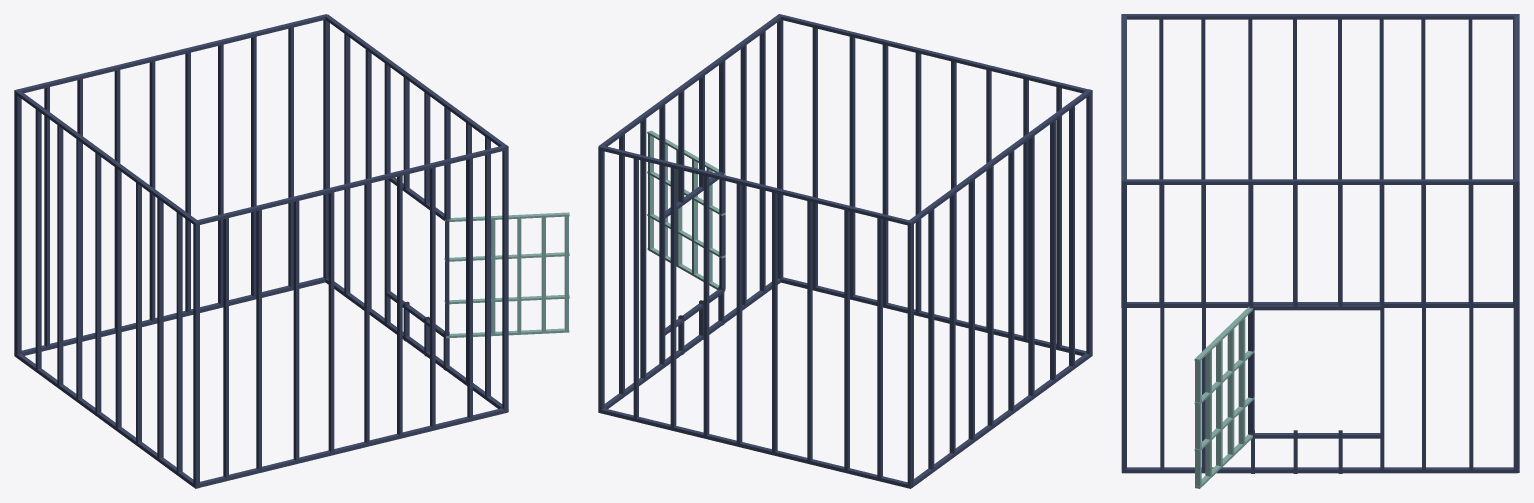
Rendered from Cage_Puppy_Open.fbx.
3 views of the same model, side by side, from view 1: azimuth 30°, elevation 25°; view 2: azimuth 150°, elevation 25°; view 3: azimuth 270°, elevation 25° (orthographic). The views are drawn at different scales.
Parts seen in each view (by area): view 1: Open_Puppy_Cage; view 2: Open_Puppy_Cage; view 3: Open_Puppy_Cage.
Part boxes in pixels (box(x1,y1,x2,y2)): Open_Puppy_Cage: box(14, 14, 569, 488); Open_Puppy_Cage: box(598, 14, 1092, 488); Open_Puppy_Cage: box(1121, 14, 1519, 488).
Bounding box in the file's own units: 193 × 120 × 149.
